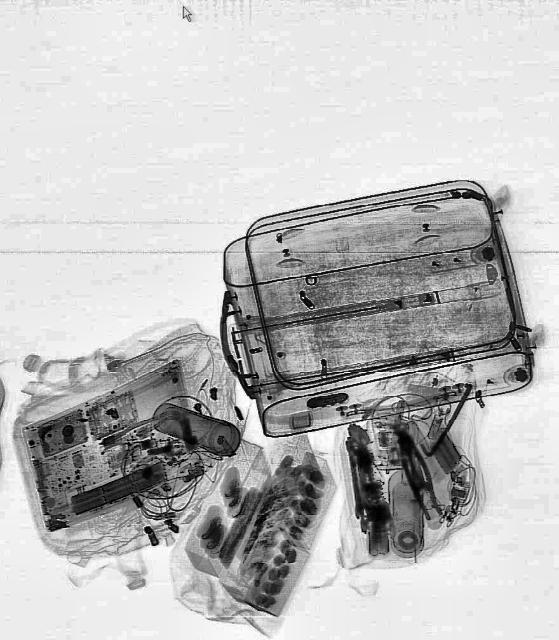Pliers: (392, 428, 446, 522)
